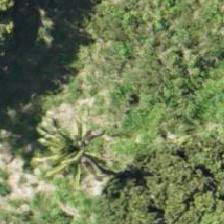coconut_tree: (27, 114, 117, 204)
